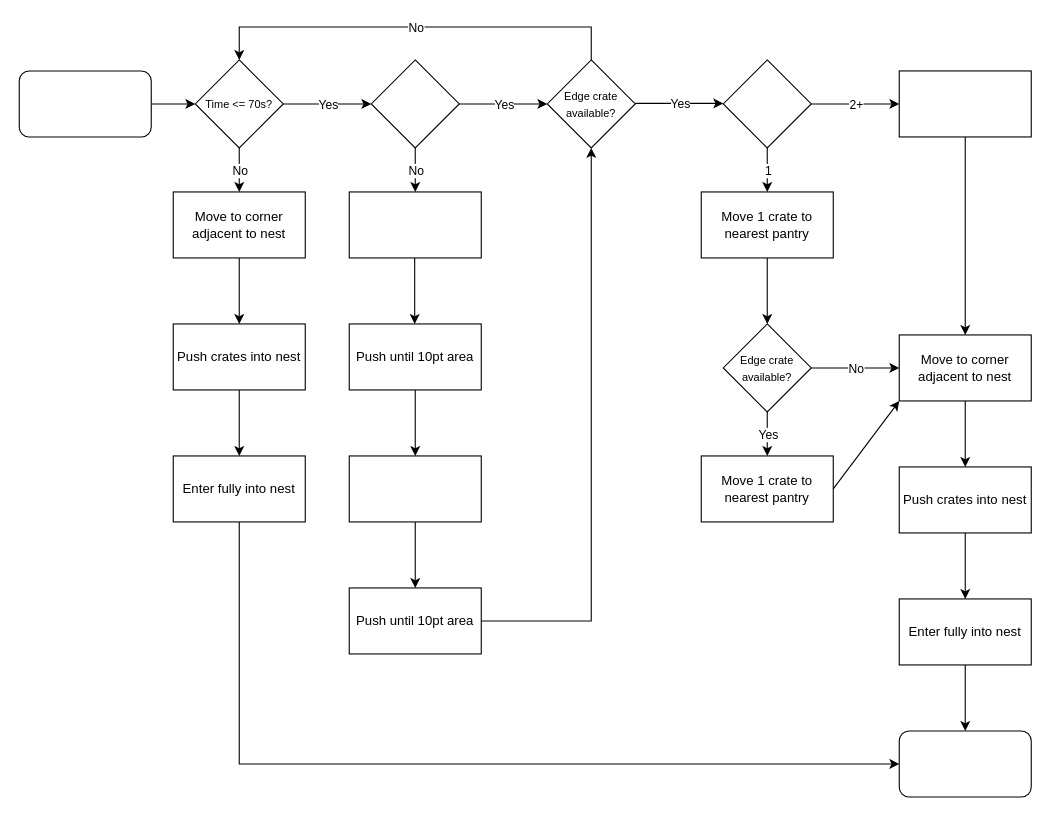
This 1051x816 diagram has some shape labels left out. Here are the shapes that lost their labels. From the top down, the box of each, then its label:
(18, 70, 151, 137): Time Start
(370, 59, 459, 148): Cursor in 10 point area?
(722, 59, 811, 148): How many?
(898, 70, 1031, 137): Move 2 crates to nearest pantry
(348, 191, 481, 258): Move to thermometer (middle side)
(348, 455, 481, 522): Move to thermometer (corner side)
(898, 730, 1031, 797): Shut down
